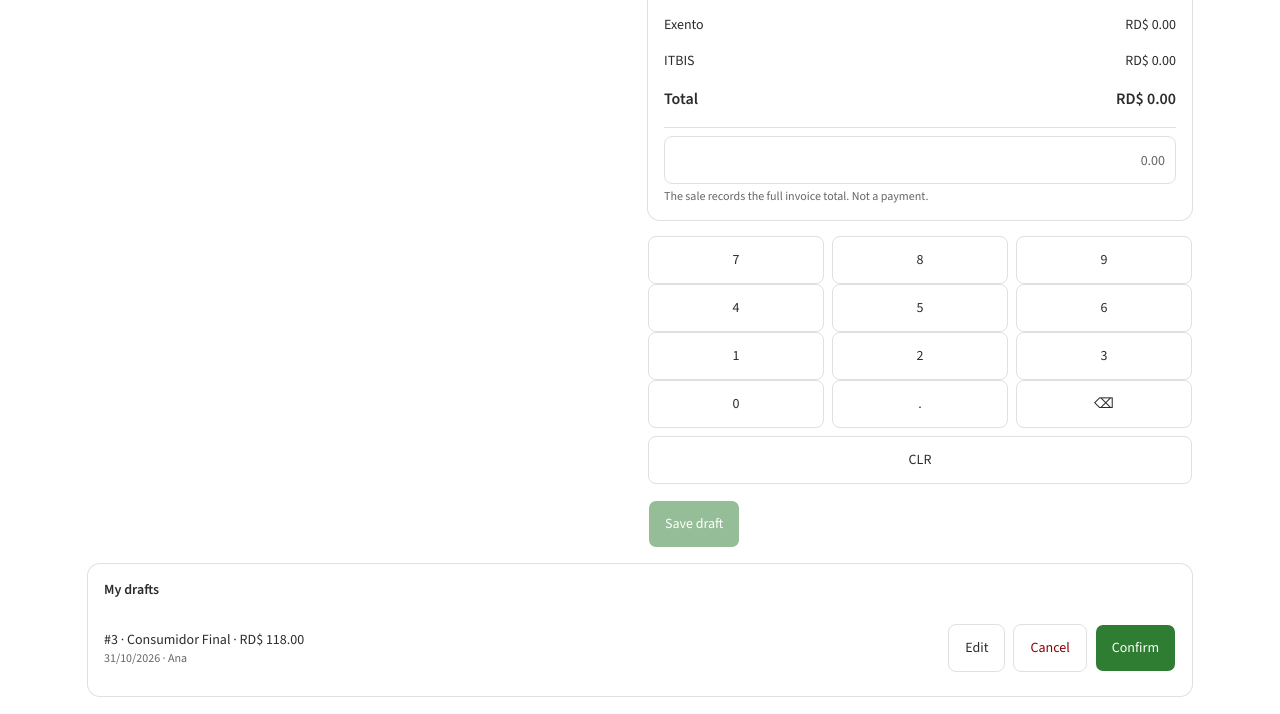
Test: POS confirm control (R-V14 5c slice) › renders the distinct rejection surface for CLIENTE_EN_MORA
The image size is (1280, 714).
(page scrolled)
What coordinates should you click on to do the following:
click the button with aria-label "Confirm draft 3"
I would click on:
 (1135, 648)
Its box is [1095,624,1176,672].
(page scrolled)
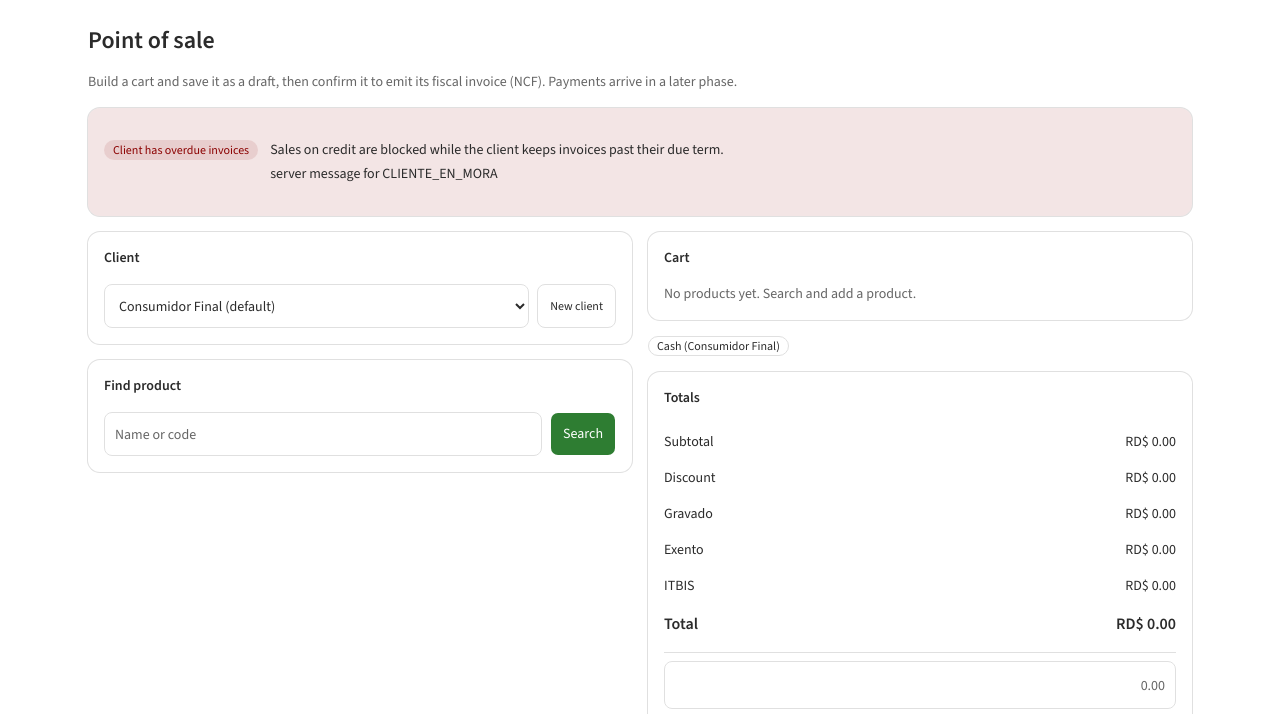
Check: the text "Client has overdue invoices" is shown, box [104,140,258,160]
Check: the text "Sales on credit are blocked while the client keeps invoices past their due term." is shown, box [270,140,724,160]
